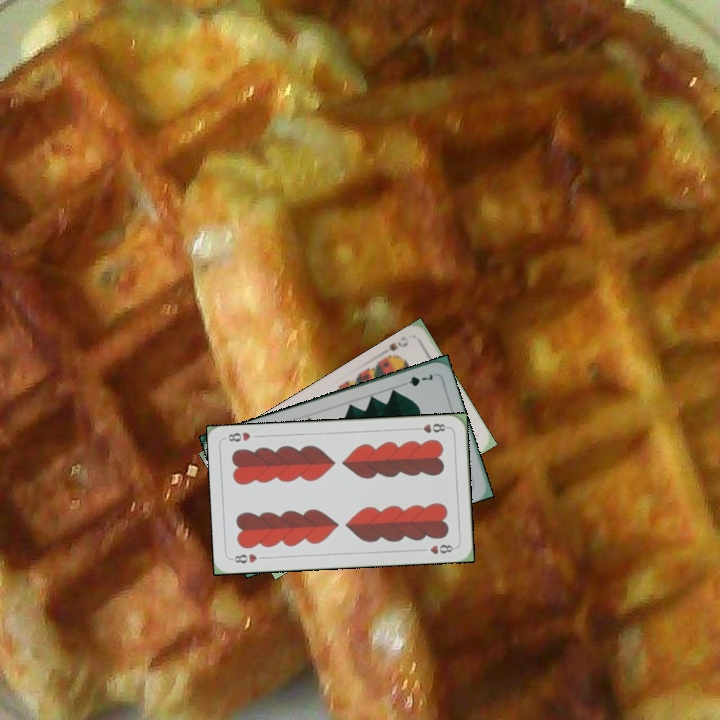G7: (397, 370, 436, 389)
H8: (410, 420, 451, 435), (228, 549, 260, 566)
S9: (376, 337, 411, 362)
